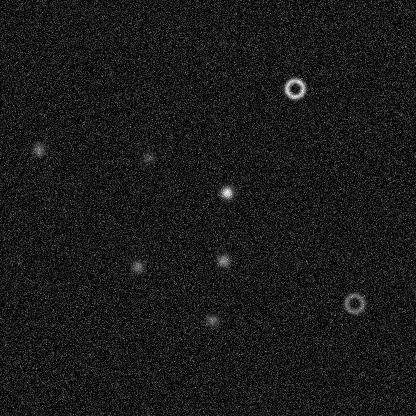Ring: (342, 291, 366, 315), (282, 76, 306, 100)
Spot: (30, 141, 46, 157), (140, 149, 156, 165), (215, 252, 231, 268), (218, 184, 234, 200), (129, 258, 145, 274), (204, 312, 220, 328)
